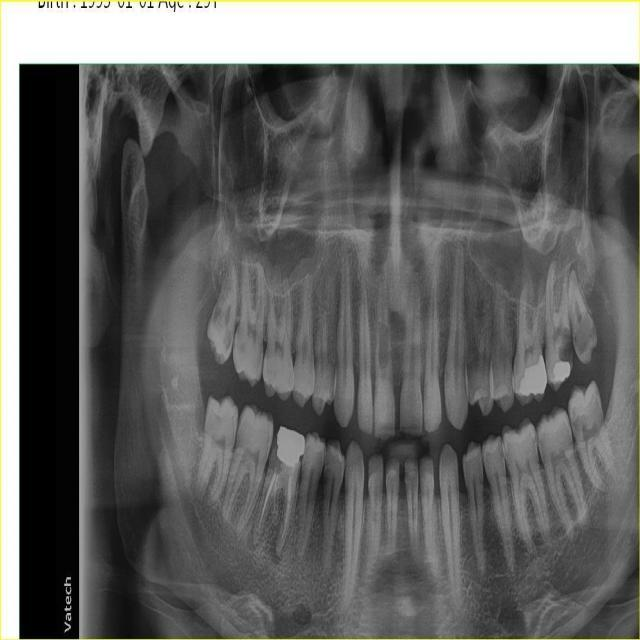74: (255, 475, 276, 528), (281, 477, 294, 542), (272, 476, 278, 511)
NucleOSS Implant: (270, 426, 310, 467), (519, 351, 550, 397), (552, 362, 571, 383)
Sterngold Implant: (571, 312, 602, 357), (556, 326, 573, 373), (267, 430, 284, 475), (570, 404, 591, 433), (378, 324, 389, 368), (209, 304, 226, 329), (221, 327, 234, 349), (238, 337, 249, 357), (532, 430, 539, 450), (538, 435, 546, 450)
